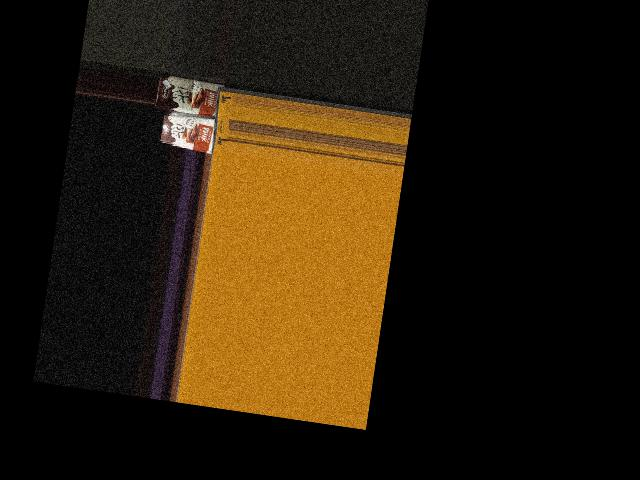chocolate: (157, 112, 222, 157)
